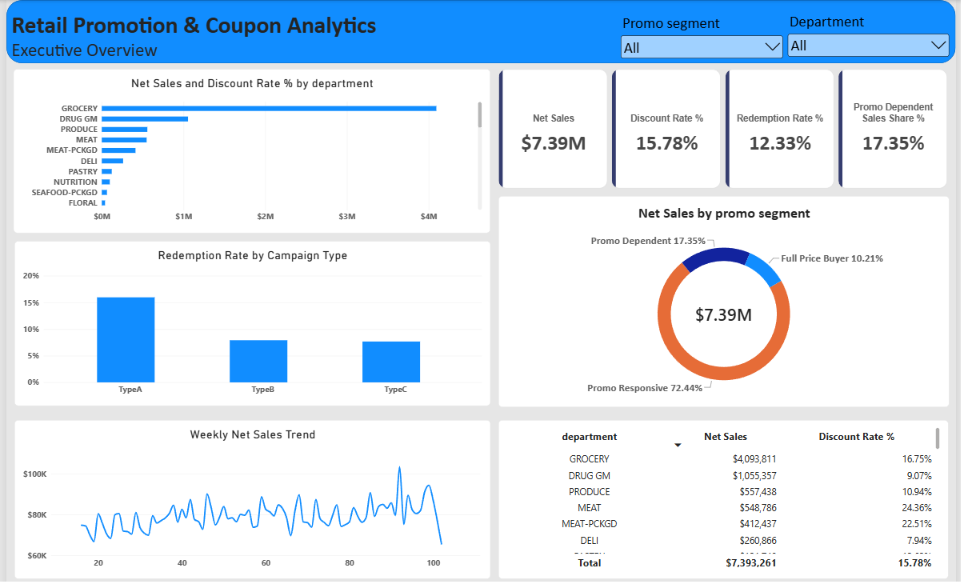

This screenshot's page, from the dashboard's own definition file:
{"tool":"powerbi","page":{"name":"Executive Overview","canvas":[1921,1208],"ordinal":0},"visuals":[{"type":"shape","box":[0,0,1920,128],"z":0},{"type":"cardVisual","fields":{"Data":["Measures (2).Net Sales","Measures (2).Discount Rate %","Measures (2).Redemption Rate %","Measures (2).Promo Dependent Sales Share %"]},"box":[995.2,139.6,910.3,242.7],"z":1000},{"type":"clusteredBarChart","fields":{"Category":["dim_product.department"],"Y":["Measures (2).Net Sales"]},"box":[14.2,139.6,964.9,331.7],"z":2000},{"type":"lineChart","title":"Weekly Net Sales Trend","fields":{"Category":["fact_transaction.week_no"],"Y":["Measures (2).Net Sales"]},"box":[16.2,849.6,962.9,321.6],"z":3000},{"type":"donutChart","title":"Net Sales by promo segment","fields":{"Category":["dim_household.promo_segment"],"Y":["Measures (2).Net Sales"]},"box":[995.2,396.5,912.3,426.8],"z":4000},{"type":"clusteredColumnChart","title":"Redemption Rate by Campaign Type","fields":{"Category":["dim_campaign.campaign_type"],"Y":["Measures (2).Redemption Rate %"]},"box":[16.2,487.5,962.9,333.8],"z":5000},{"type":"tableEx","fields":{"Values":["dim_product.department","Measures (2).Net Sales","Measures (2).Discount Rate %"]},"box":[995.2,849.6,910.3,321.6],"z":6000},{"type":"slicer","fields":{"Values":["dim_product.department"]},"box":[1576,24,336,104],"z":7000},{"type":"slicer","fields":{"Values":["dim_household.promo_segment"]},"box":[1238,14,338,124],"z":8000},{"type":"textbox","box":[10,20,1200,134],"z":9000}]}

Visuals, with their boxes on the page's 1921x1208 design canvas (x1, y1, x2, y2). These are canvas units, not pixel positions in the 961x582 screenshot, which may show the page scaled, cropped or inside an application window:
shape: (left=0, top=0, right=1920, bottom=128)
cardVisual - Measures (2).Net Sales x Measures (2).Discount Rate %: (left=995, top=140, right=1906, bottom=382)
clusteredBarChart - dim_product.department x Measures (2).Net Sales: (left=14, top=140, right=979, bottom=471)
"Weekly Net Sales Trend" lineChart: (left=16, top=850, right=979, bottom=1171)
"Net Sales by promo segment" donutChart: (left=995, top=396, right=1908, bottom=823)
"Redemption Rate by Campaign Type" clusteredColumnChart: (left=16, top=488, right=979, bottom=821)
tableEx - dim_product.department x Measures (2).Net Sales: (left=995, top=850, right=1906, bottom=1171)
slicer - dim_product.department: (left=1576, top=24, right=1912, bottom=128)
slicer - dim_household.promo_segment: (left=1238, top=14, right=1576, bottom=138)
textbox: (left=10, top=20, right=1210, bottom=154)
